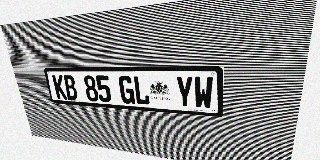5: (95, 75, 112, 103)
8: (83, 75, 99, 102)
B: (63, 75, 78, 100)
G: (118, 76, 135, 104)
K: (52, 75, 67, 99)
L: (133, 76, 150, 105)
W: (194, 76, 213, 109)
Y: (175, 76, 194, 108)
